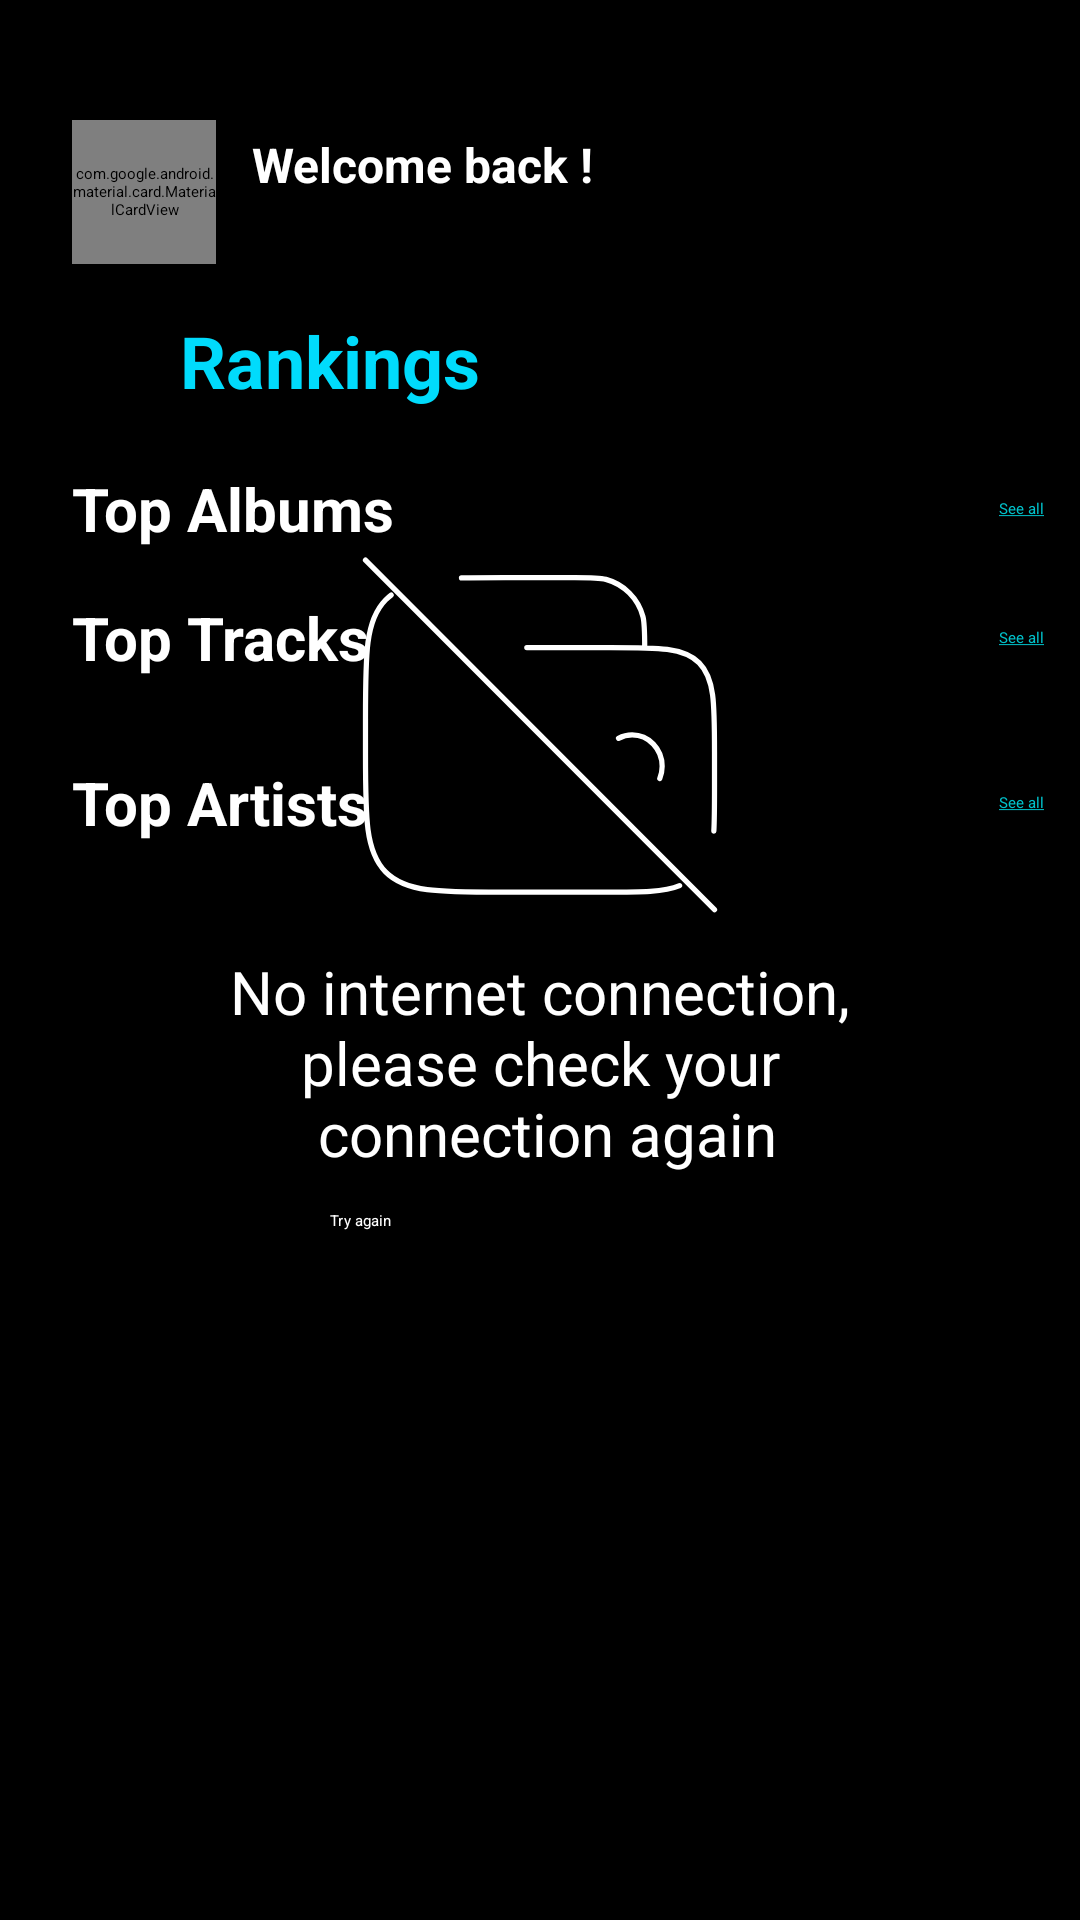

Locate icon controls on the screen. Image size 1080×1920, boxes as box=[x1, y1, x2, y2].
library no internet: box=[360, 557, 718, 913]
